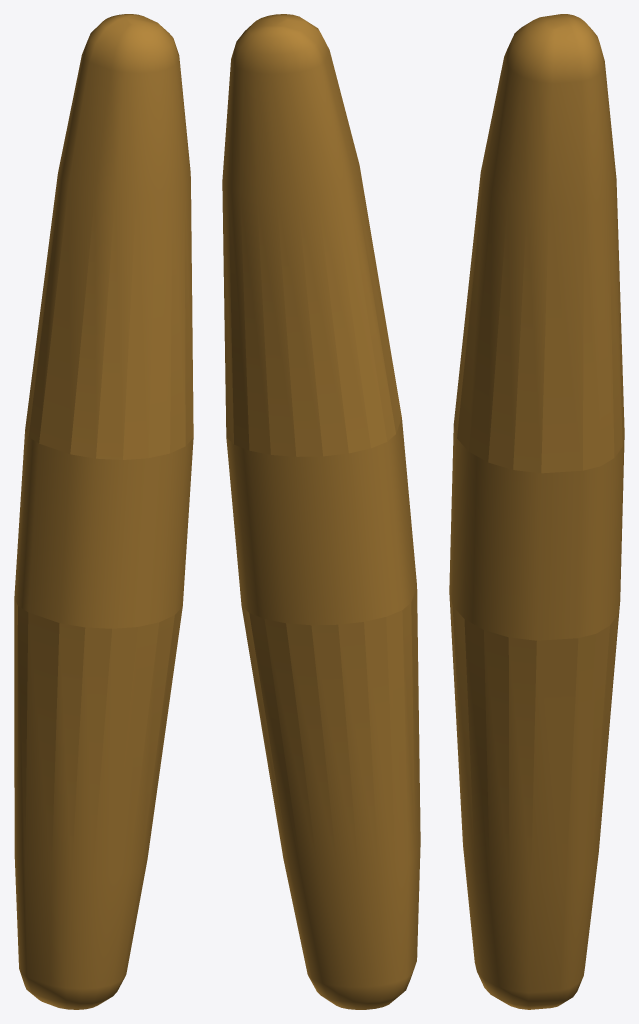
The model's file is BaguetteTexture.fbx.
3 views of the same model, side by side, from view 1: azimuth 30°, elevation 25°; view 2: azimuth 150°, elevation 25°; view 3: azimuth 270°, elevation 25° (orthographic). The views are drawn at different scales.
Visible parts, largest first — view 1: Bagette1; view 2: Bagette1; view 3: Bagette1.
Boxes of the visible parts, left/top/right/bottom form: Bagette1: left=14, top=14, right=193, bottom=1009; Bagette1: left=222, top=14, right=420, bottom=1009; Bagette1: left=449, top=14, right=624, bottom=1009.
Bounding box in the file's own units: 0.6165 × 3.33 × 0.5224.
